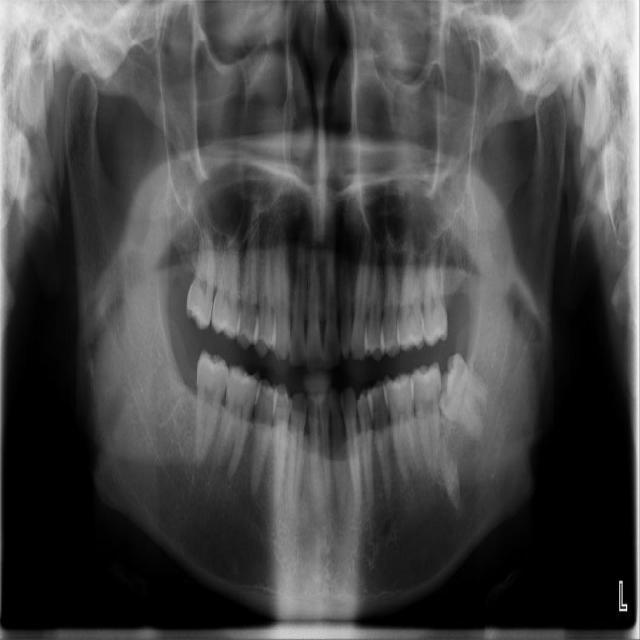73: (600, 576, 606, 592)
BioHorizons Implant: (421, 233, 448, 346)
Biomet 3i Implant: (433, 350, 493, 443)
Blue Sky Bio Implant: (409, 360, 451, 486)
Caries: (184, 208, 226, 331)
Implant: (194, 350, 229, 470)
